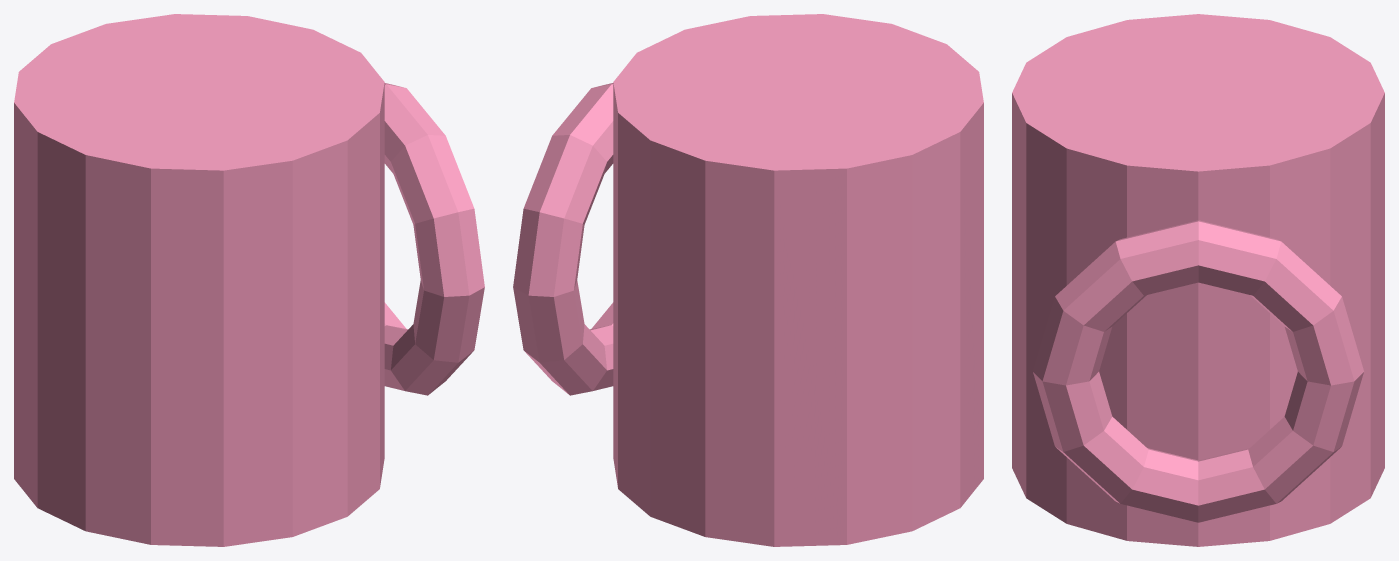
Rendered from mug.glb.
3 views of the same model, side by side, from view 1: azimuth 30°, elevation 25°; view 2: azimuth 150°, elevation 25°; view 3: azimuth 270°, elevation 25° (orthographic).
Visible parts, largest first — view 1: mug.glb; view 2: mug.glb; view 3: mug.glb.
Part boxes in pixels (<box>): mug.glb: <box>14,14,484,546</box>; mug.glb: <box>513,14,983,546</box>; mug.glb: <box>1012,14,1384,546</box>.
Bounding box in the file's own units: 0.105 × 0.1 × 0.09.
